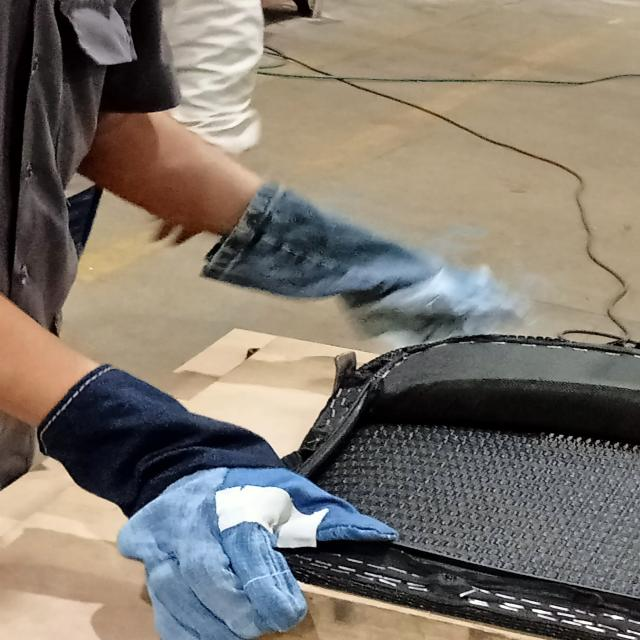Gloves-Detection: (69, 365, 330, 640), (230, 188, 490, 336)
